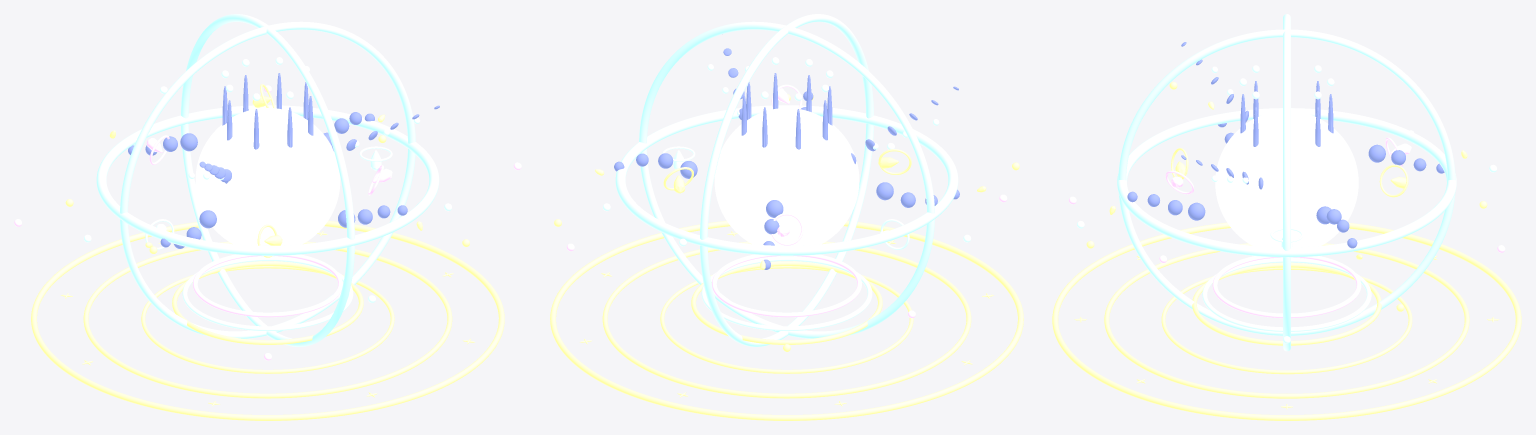
File: v3_compiler_boss_v3.glb
The picture shows the model from 3 angles, left to right: view 1: azimuth 30°, elevation 25°; view 2: azimuth 150°, elevation 25°; view 3: azimuth 270°, elevation 25°; orthographic projection.
Visible parts, largest first — view 1: cb_core, cb_aura_h, cb_aura_v1, cb_sigil_outer, cb_aura_v2, cb_sigil_mid, cb_sigil_inner, cb_phase_1, cb_phase_2, cb_phase_3; view 2: cb_core, cb_aura_h, cb_aura_v1, cb_sigil_outer, cb_aura_v2, cb_sigil_mid, cb_sigil_inner, cb_phase_1, cb_phase_2, cb_phase_3; view 3: cb_core, cb_aura_v2, cb_aura_h, cb_sigil_outer, cb_sigil_mid, cb_aura_v1, cb_sigil_inner, cb_phase_1, cb_phase_2, cb_phase_3.
Boxes of the visible parts, x1,y1,x2,y2 form: cb_core: (195, 108, 340, 245); cb_aura_h: (96, 105, 439, 255); cb_aura_v1: (120, 21, 415, 338); cb_sigil_outer: (31, 220, 504, 420); cb_aura_v2: (181, 14, 354, 346); cb_sigil_mid: (83, 241, 452, 398); cb_sigil_inner: (141, 266, 394, 373); cb_phase_1: (172, 261, 363, 344); cb_phase_2: (182, 256, 353, 331); cb_phase_3: (193, 254, 342, 317); cb_core: (714, 108, 859, 245); cb_aura_h: (615, 105, 958, 255); cb_aura_v1: (639, 21, 934, 338); cb_sigil_outer: (550, 220, 1023, 420); cb_aura_v2: (700, 14, 873, 346); cb_sigil_mid: (602, 241, 971, 398); cb_sigil_inner: (660, 266, 913, 373); cb_phase_1: (691, 261, 882, 344); cb_phase_2: (701, 256, 872, 331); cb_phase_3: (712, 254, 861, 317); cb_core: (1215, 111, 1358, 247); cb_aura_v2: (1118, 29, 1455, 335); cb_aura_h: (1117, 108, 1456, 257); cb_sigil_outer: (1052, 222, 1521, 420); cb_sigil_mid: (1104, 243, 1469, 398); cb_aura_v1: (1283, 14, 1290, 351); cb_sigil_inner: (1161, 267, 1412, 374); cb_phase_1: (1192, 262, 1381, 345); cb_phase_2: (1202, 257, 1371, 331); cb_phase_3: (1212, 256, 1361, 318).
Bounding box in the file's own units: 9.11 × 6.55 × 9.11.
